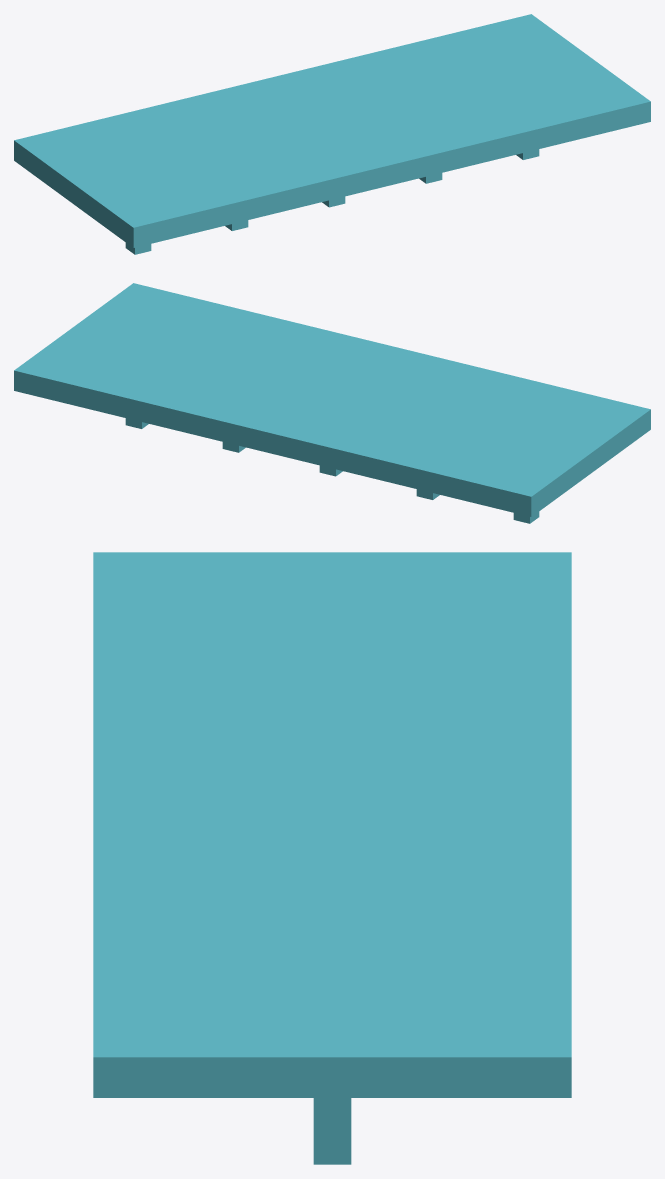
File: dock.glb
The picture shows the model from 3 angles, top to bottom: view 1: azimuth 30°, elevation 25°; view 2: azimuth 150°, elevation 25°; view 3: azimuth 270°, elevation 25°; orthographic projection. The views are drawn at different scales.
Bounding box in the file's own units: 8 × 1.2 × 3.2.
